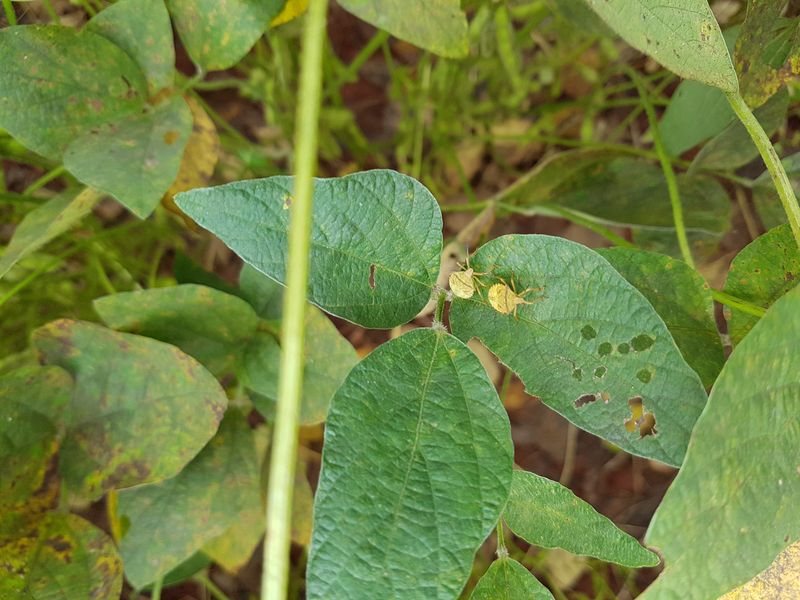Euschistus_heros_ninfa: (435, 244, 487, 314), (485, 269, 546, 327)
